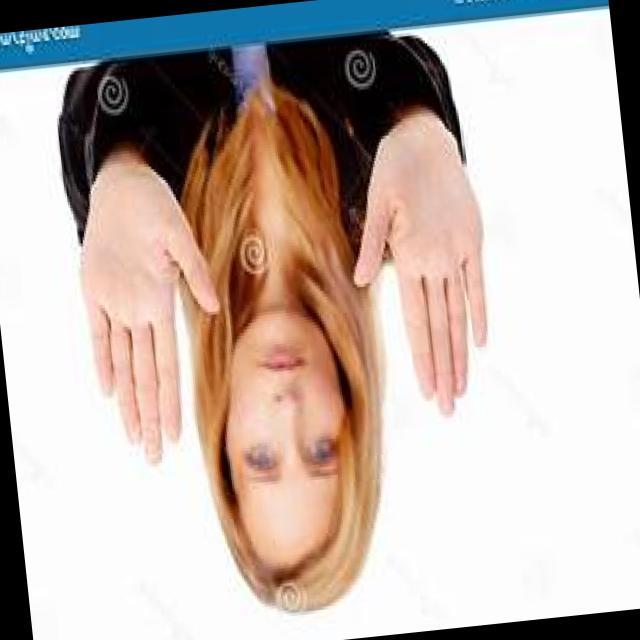not-gloved: (70, 145, 244, 474), (340, 114, 508, 430)
